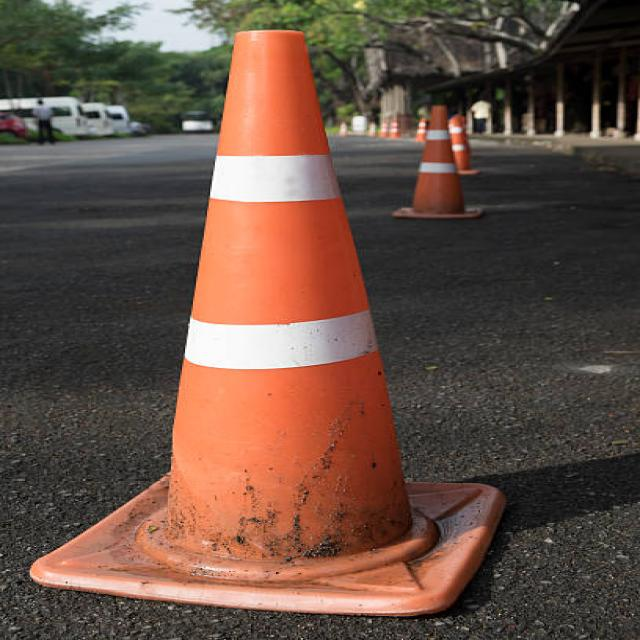Traffic Cone: (0, 1, 527, 631), (387, 98, 489, 230)
